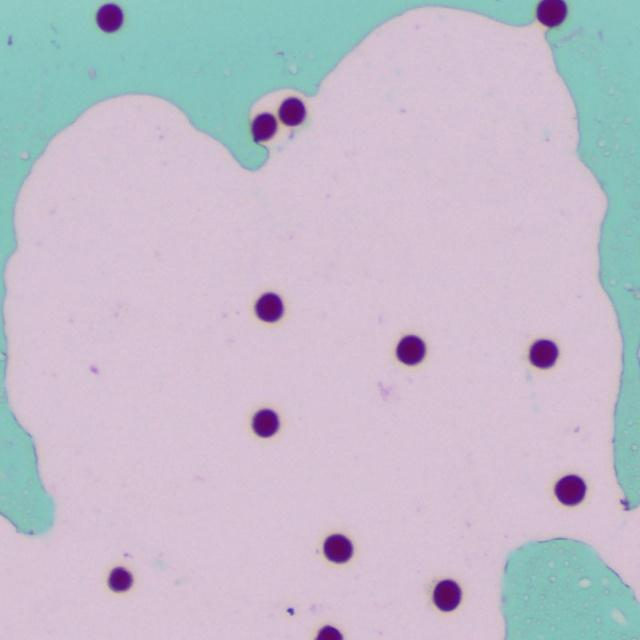viable: (555, 475, 585, 505), (433, 579, 460, 611), (397, 335, 425, 364), (323, 534, 352, 562), (529, 339, 557, 367), (255, 293, 283, 321), (96, 3, 123, 32), (537, 0, 567, 26), (278, 97, 305, 125), (252, 113, 276, 142), (253, 409, 278, 436), (108, 567, 132, 591), (315, 625, 342, 639)
